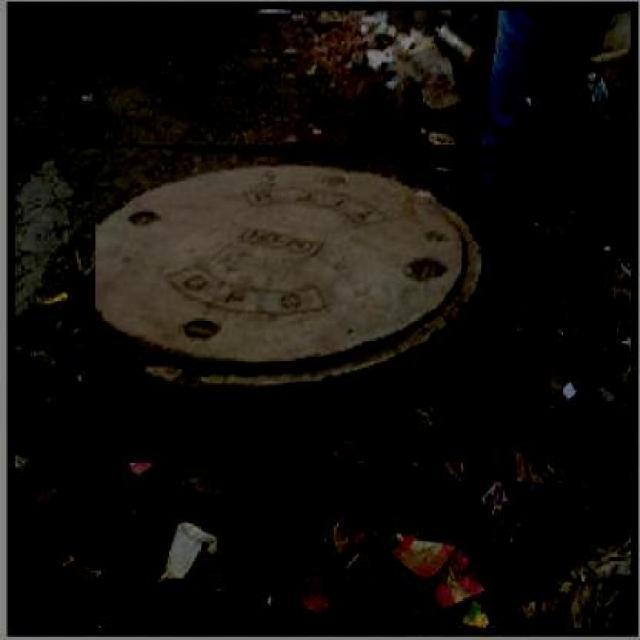Manhole: (90, 162, 485, 388)
